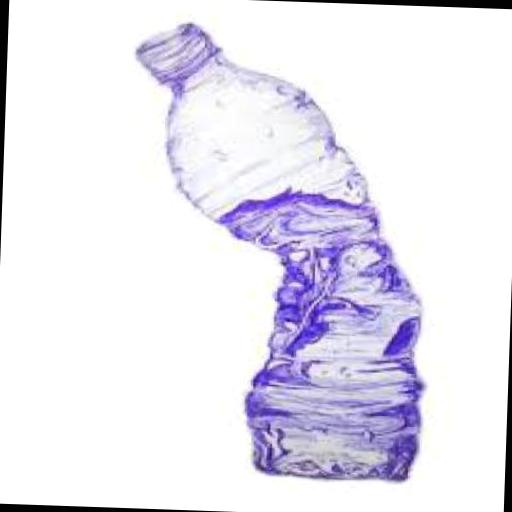plastic: (116, 19, 430, 480)
